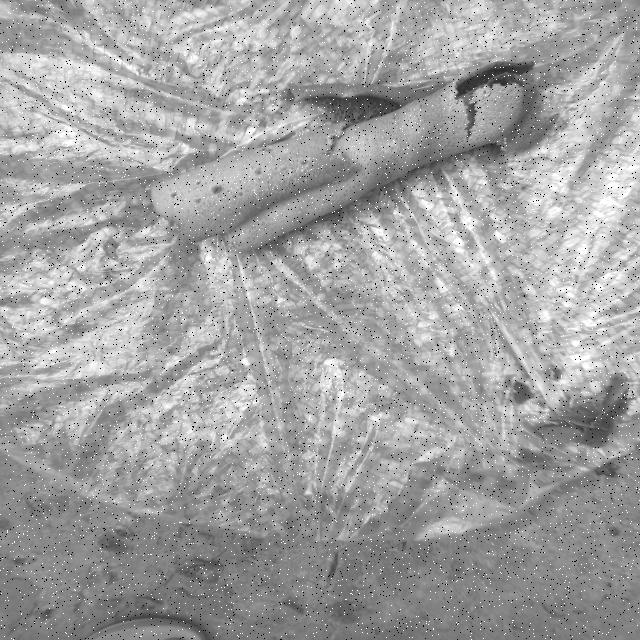injera_mold: (209, 184, 226, 195), (386, 142, 397, 153), (330, 134, 338, 146), (253, 168, 263, 176), (502, 136, 508, 147), (300, 159, 309, 166), (259, 148, 274, 152), (170, 192, 178, 199), (279, 166, 288, 172), (344, 93, 354, 98), (194, 198, 202, 204), (348, 165, 354, 172), (304, 178, 308, 187), (238, 191, 244, 196), (311, 172, 316, 177), (196, 181, 202, 185), (256, 196, 260, 202), (301, 168, 307, 172), (284, 149, 290, 153), (303, 90, 310, 93), (288, 187, 292, 192), (478, 73, 483, 77), (337, 153, 343, 156), (282, 189, 286, 193), (257, 206, 262, 209), (275, 185, 279, 188), (507, 130, 511, 133), (238, 212, 241, 215), (275, 190, 278, 193), (212, 217, 215, 220), (212, 211, 214, 214), (387, 105, 389, 108), (218, 214, 220, 216), (486, 137, 488, 139), (501, 146, 503, 148), (490, 142, 492, 143)
